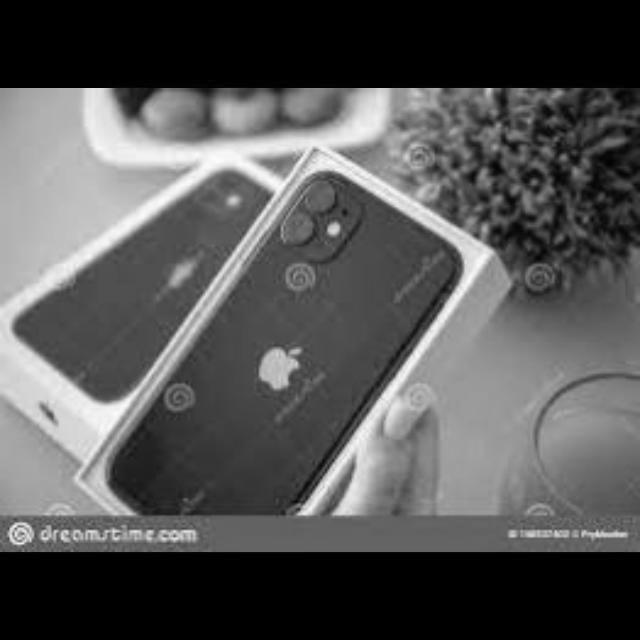fake: (62, 139, 554, 516), (1, 161, 288, 429)
